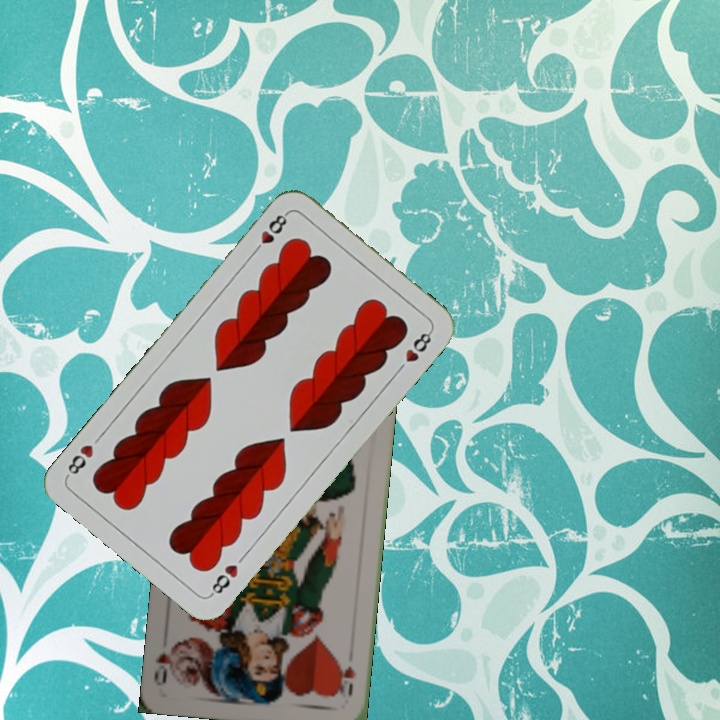H8: (248, 208, 291, 257), (206, 560, 241, 599)
HO: (334, 659, 359, 698)
